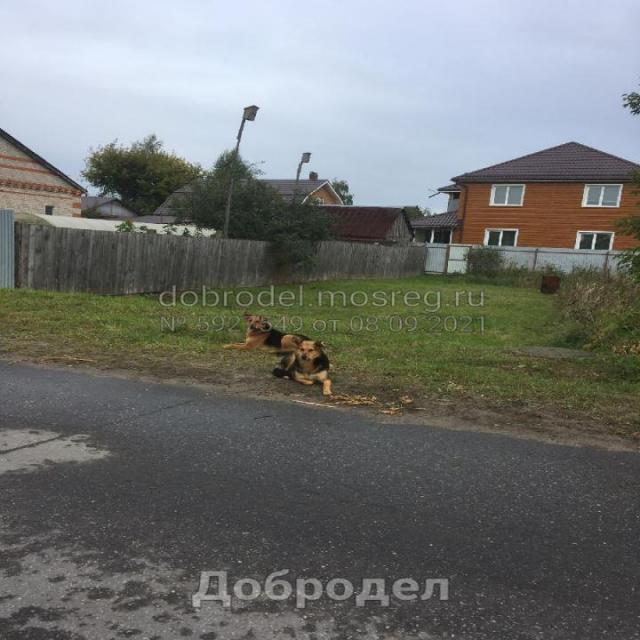dog: (220, 312, 326, 358), (270, 335, 334, 398)
